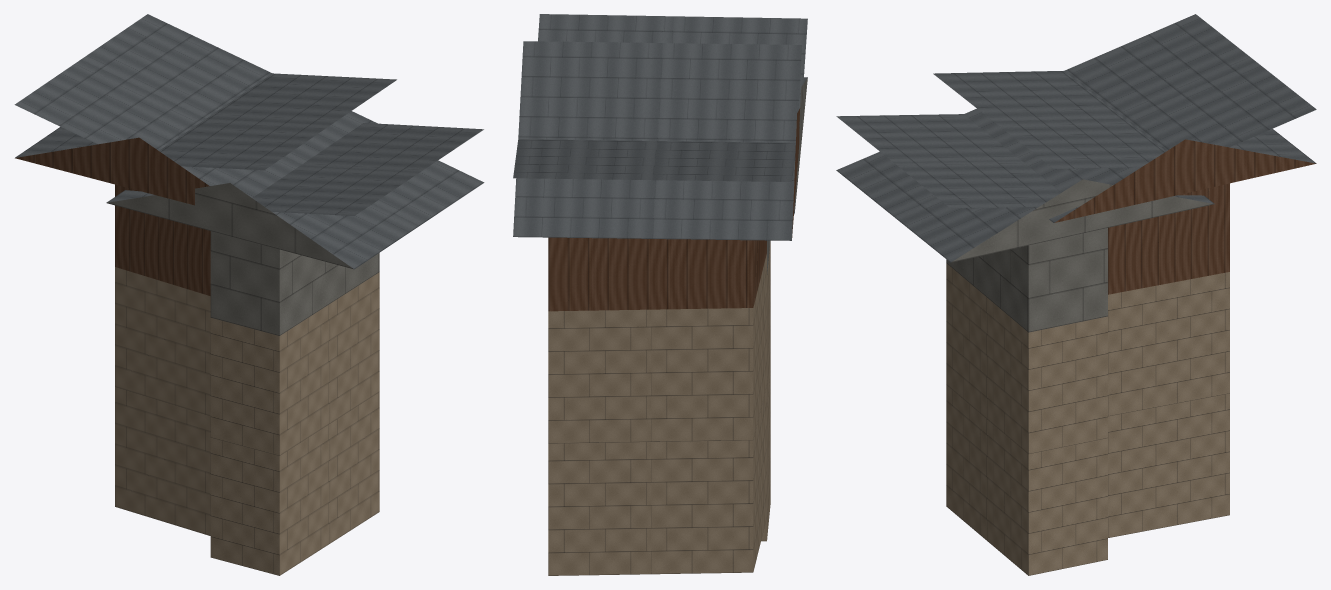
Rendered from bld_c44_-39_412.gltf.
The picture shows the model from 3 angles, left to right: view 1: azimuth 30°, elevation 25°; view 2: azimuth 150°, elevation 25°; view 3: azimuth 270°, elevation 25°; orthographic projection. The views are drawn at different scales.
Parts seen in each view (by area): view 1: bld_c44_-39_412; view 2: bld_c44_-39_412; view 3: bld_c44_-39_412.
Part boxes in pixels (box(x1,y1,x2,y2)): bld_c44_-39_412: box(14, 14, 484, 575); bld_c44_-39_412: box(513, 14, 807, 575); bld_c44_-39_412: box(836, 14, 1316, 575).
Size of the model in its own units: 6.86 by 7.8 by 8.06.
Materials: 6 (6 with a texture image).
